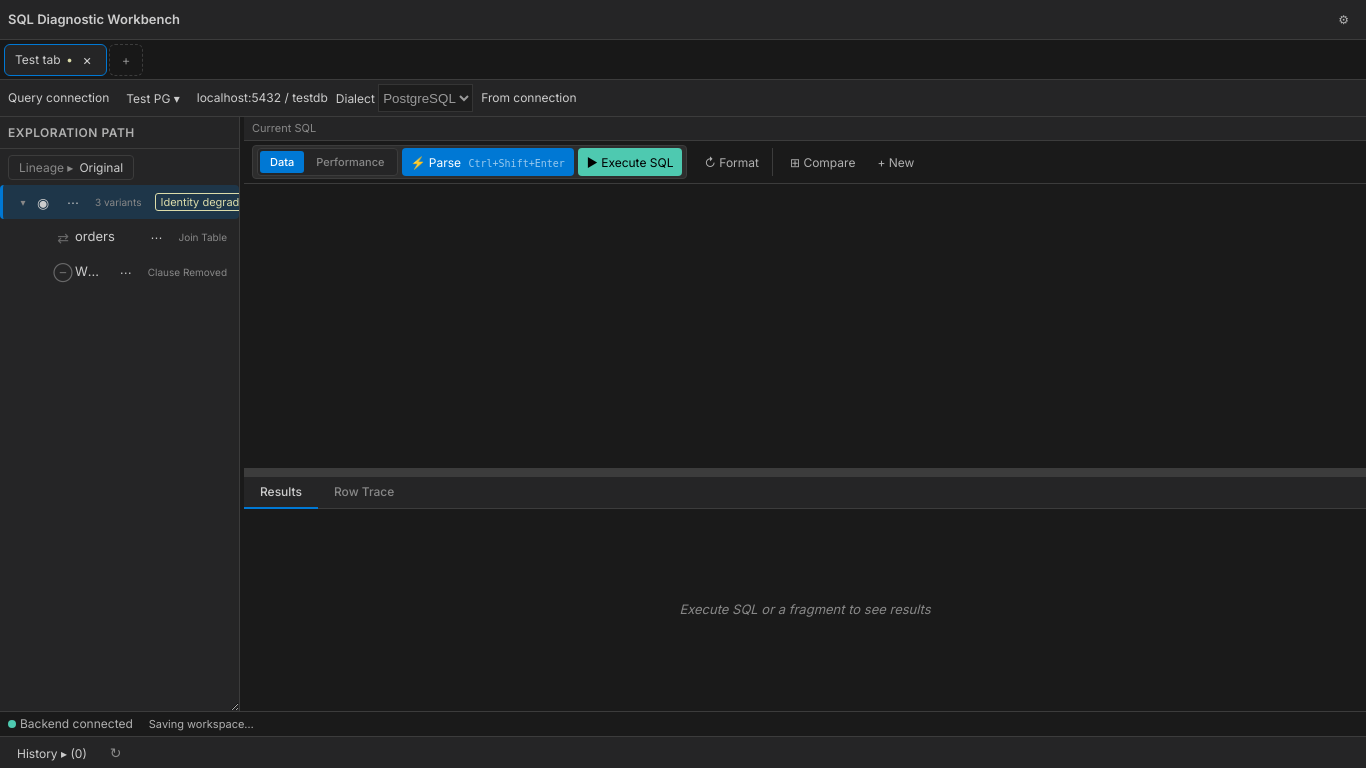
Scenario: App fragment-edit notice — degraded source (spec §5) › EDIT from a degraded source states the degraded identity and its reason
Expected: the button "▶ Execute SQL" is shown, [578,148,682,176]
Right-click the list item "▾ ◉ ⋯ 3 variants Identity degraded" at (120, 202), box [0,185,239,219]
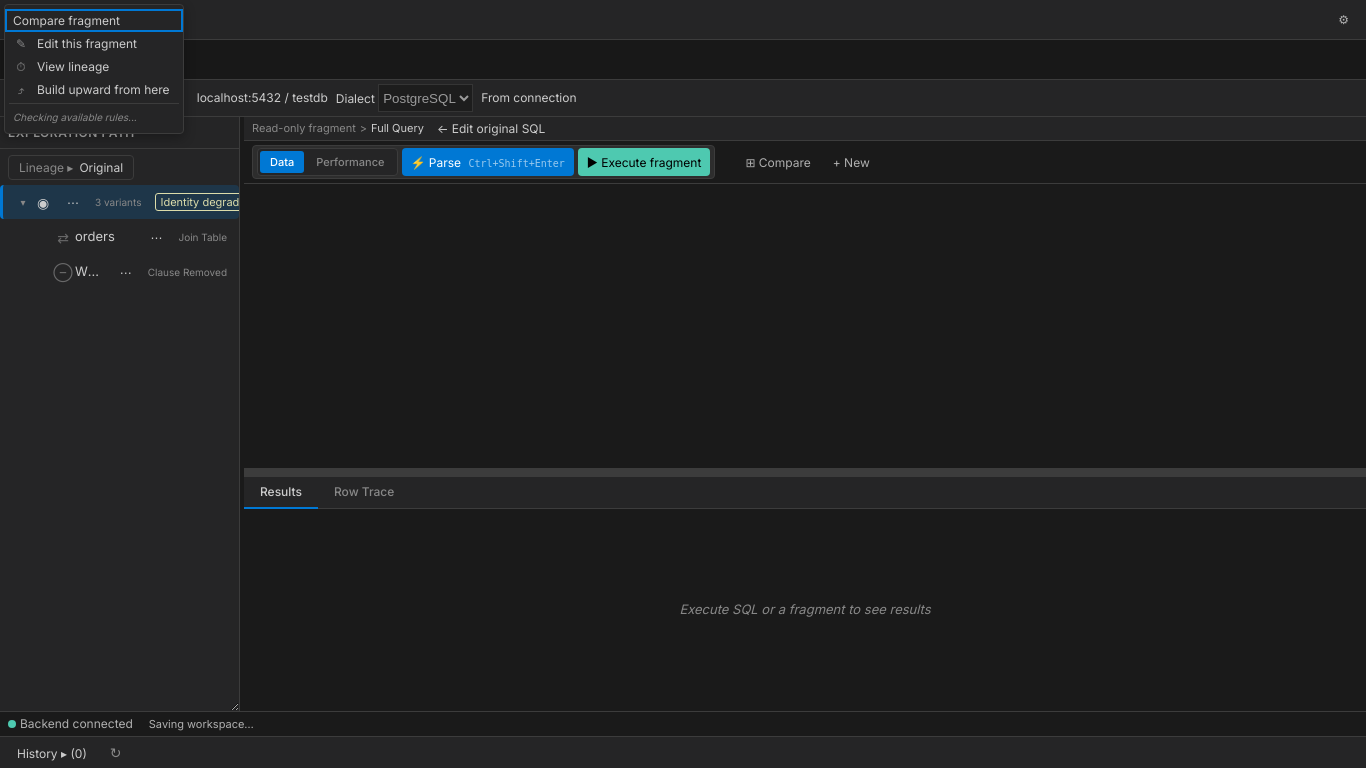
Click the menu item "✎ Edit this fragment" at (94, 44), box [5,32,183,55]
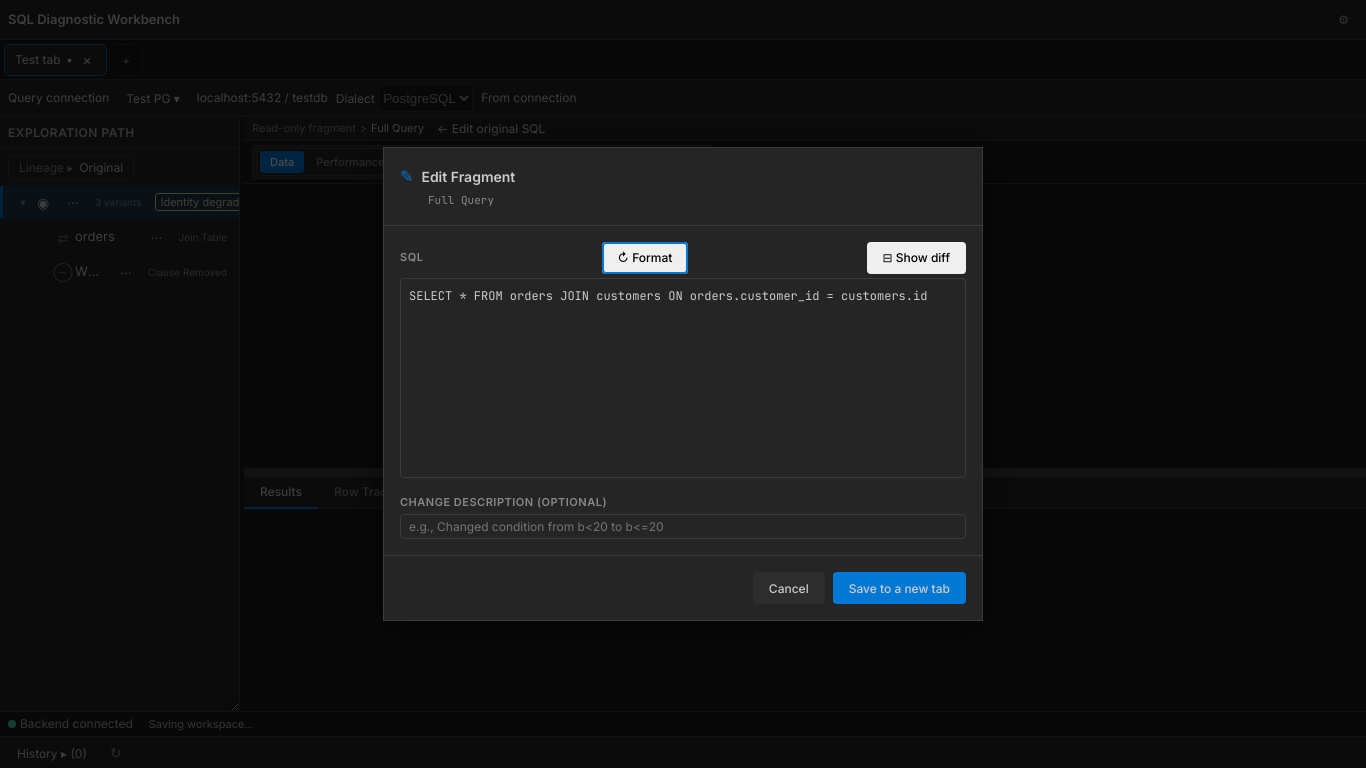
Replace the text in the text box named "SQL fragment editor" with "SELECT 2" at (683, 378), box [400,278,966,478]
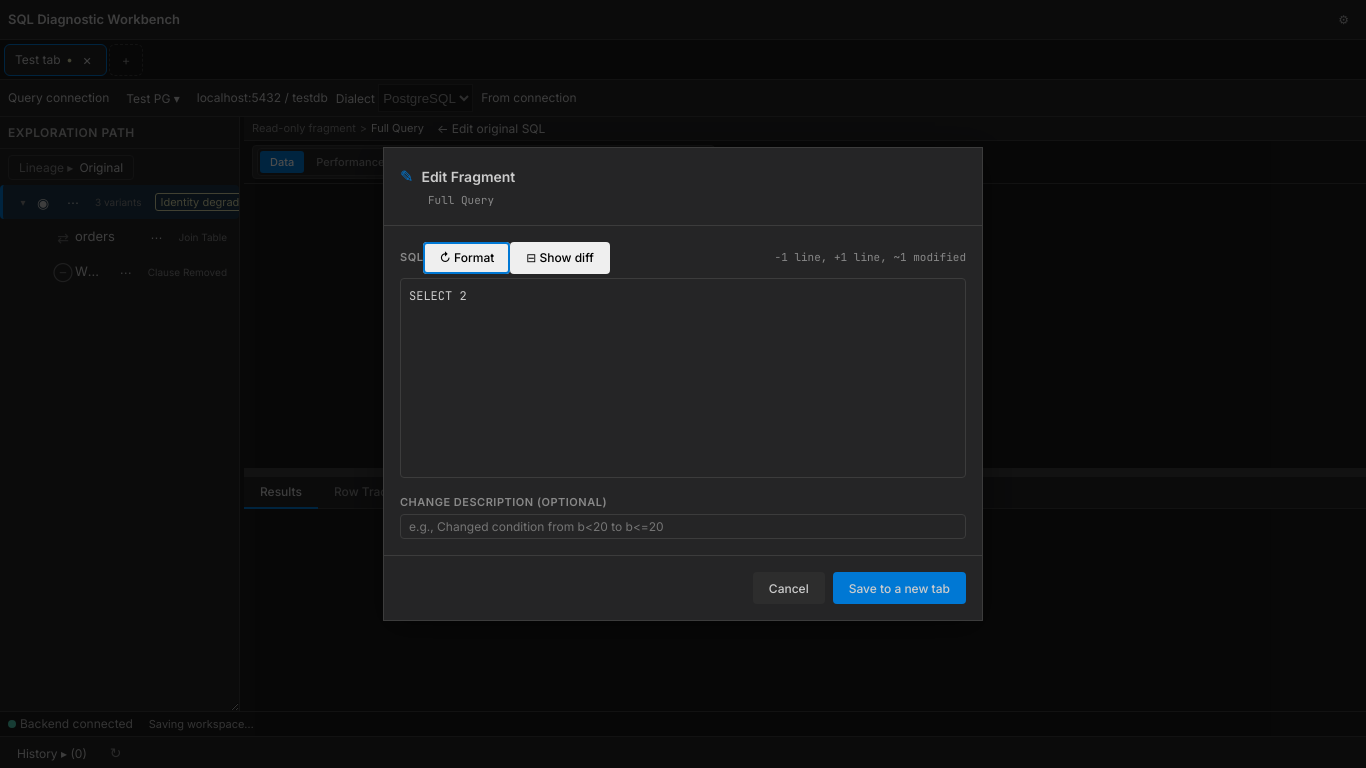
Click the button "Save to a new tab" at (899, 588), box [833,572,966,604]
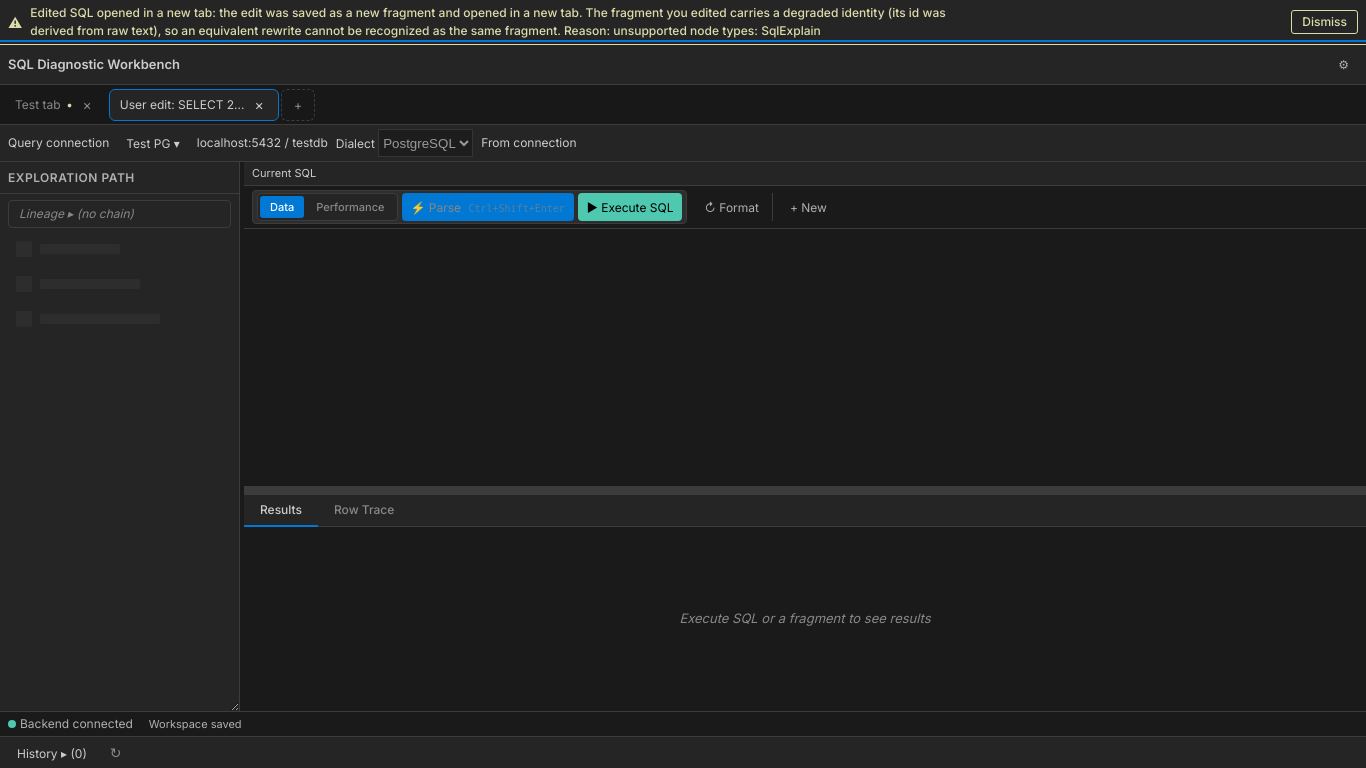
Expected: the text "carries a degraded identity" shows "Edited SQL opened in a new tab", [30,5,212,20]
Expected: the text "carries a degraded identity" shows "the edit was saved as a new fragment and opened in a new tab.", [30,5,946,38]
Expected: the text "carries a degraded identity" shows "Reason: unsupported node types: SqlExplain", [30,5,946,38]
Click the button "Dismiss" at (1325, 22), box [1291,10,1358,34]
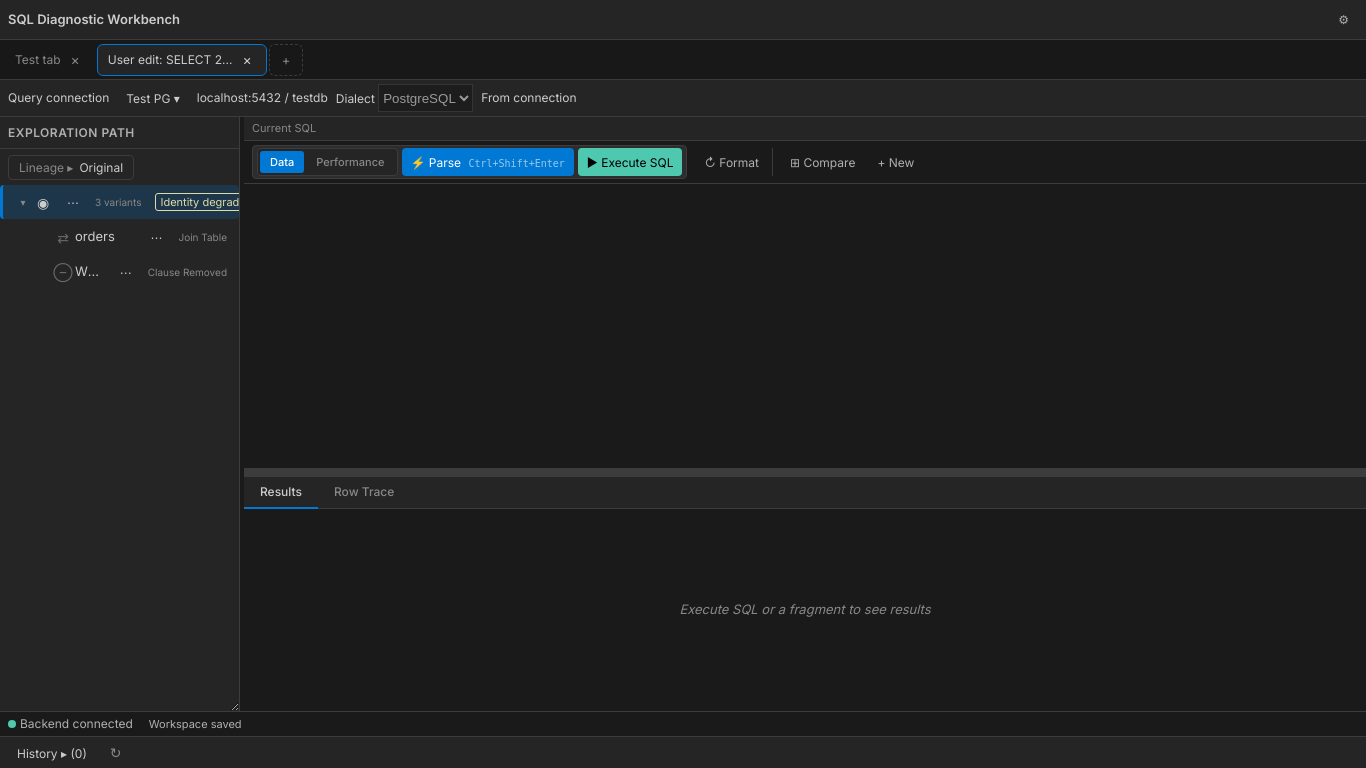
Expected: the text "carries a degraded identity" is gone
